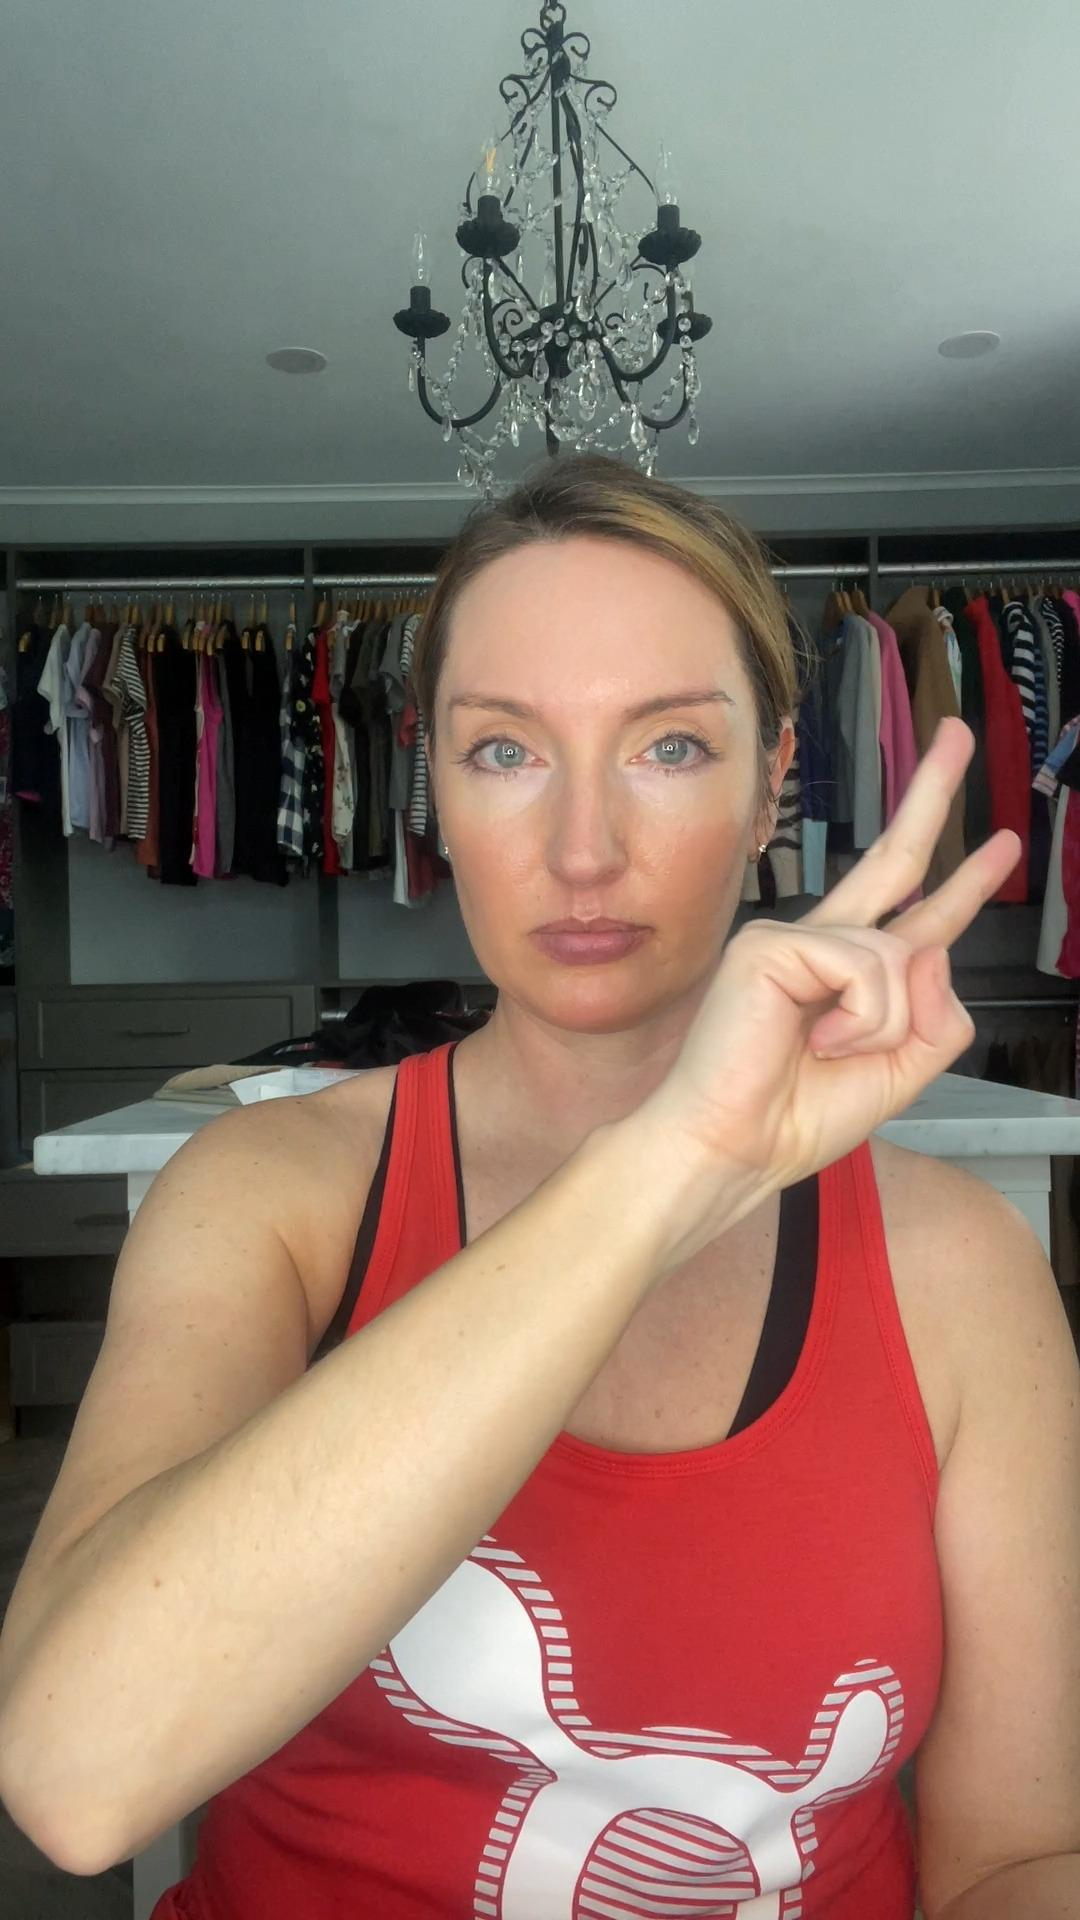Scissors: (690, 707, 1013, 1193)
